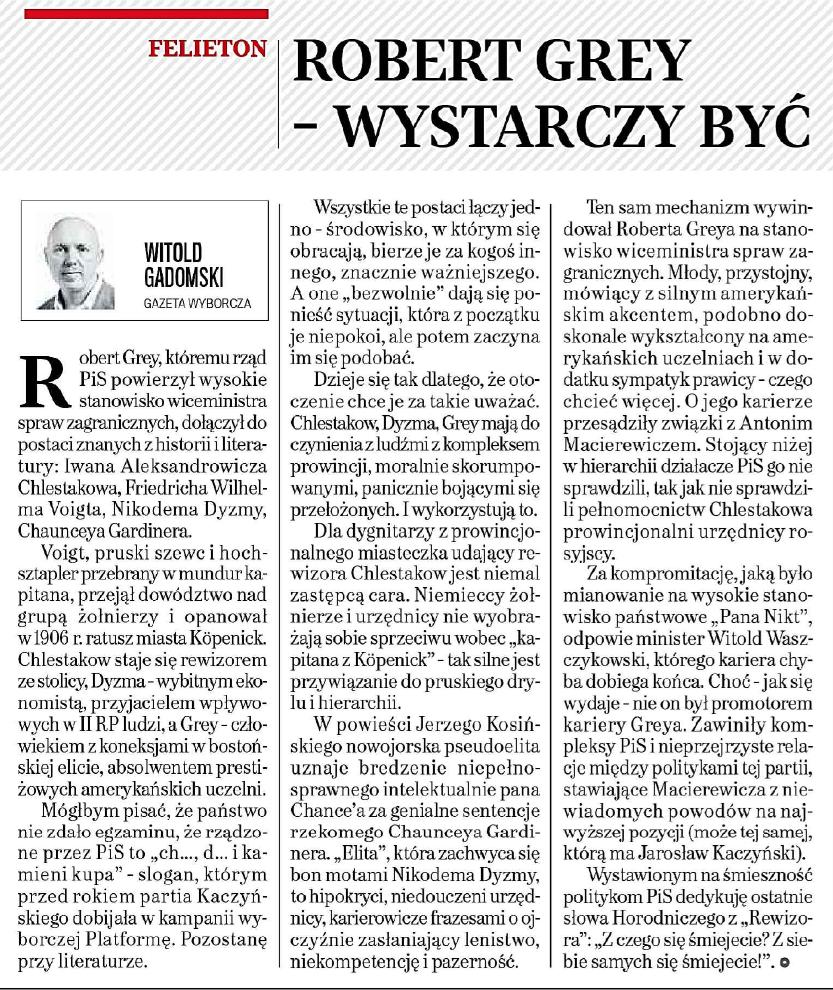author: (136, 234, 242, 297)
body: (556, 192, 833, 977), (287, 193, 543, 974), (7, 333, 274, 981)
title: (284, 26, 826, 161)
